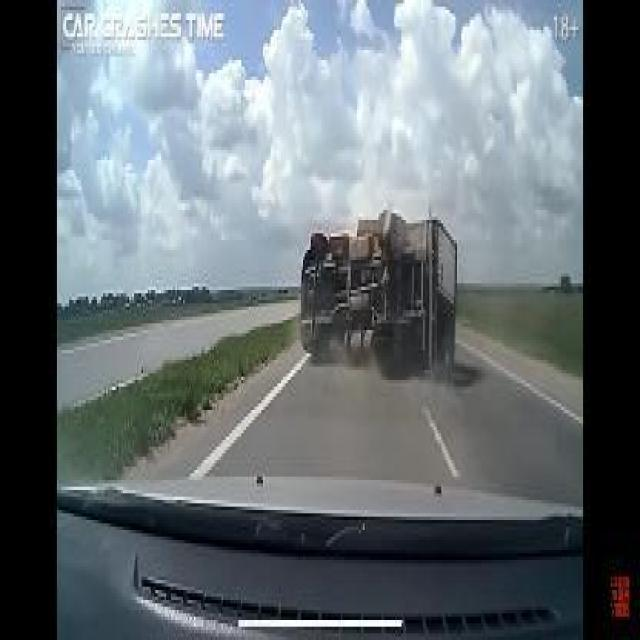accident: (291, 206, 475, 386)
